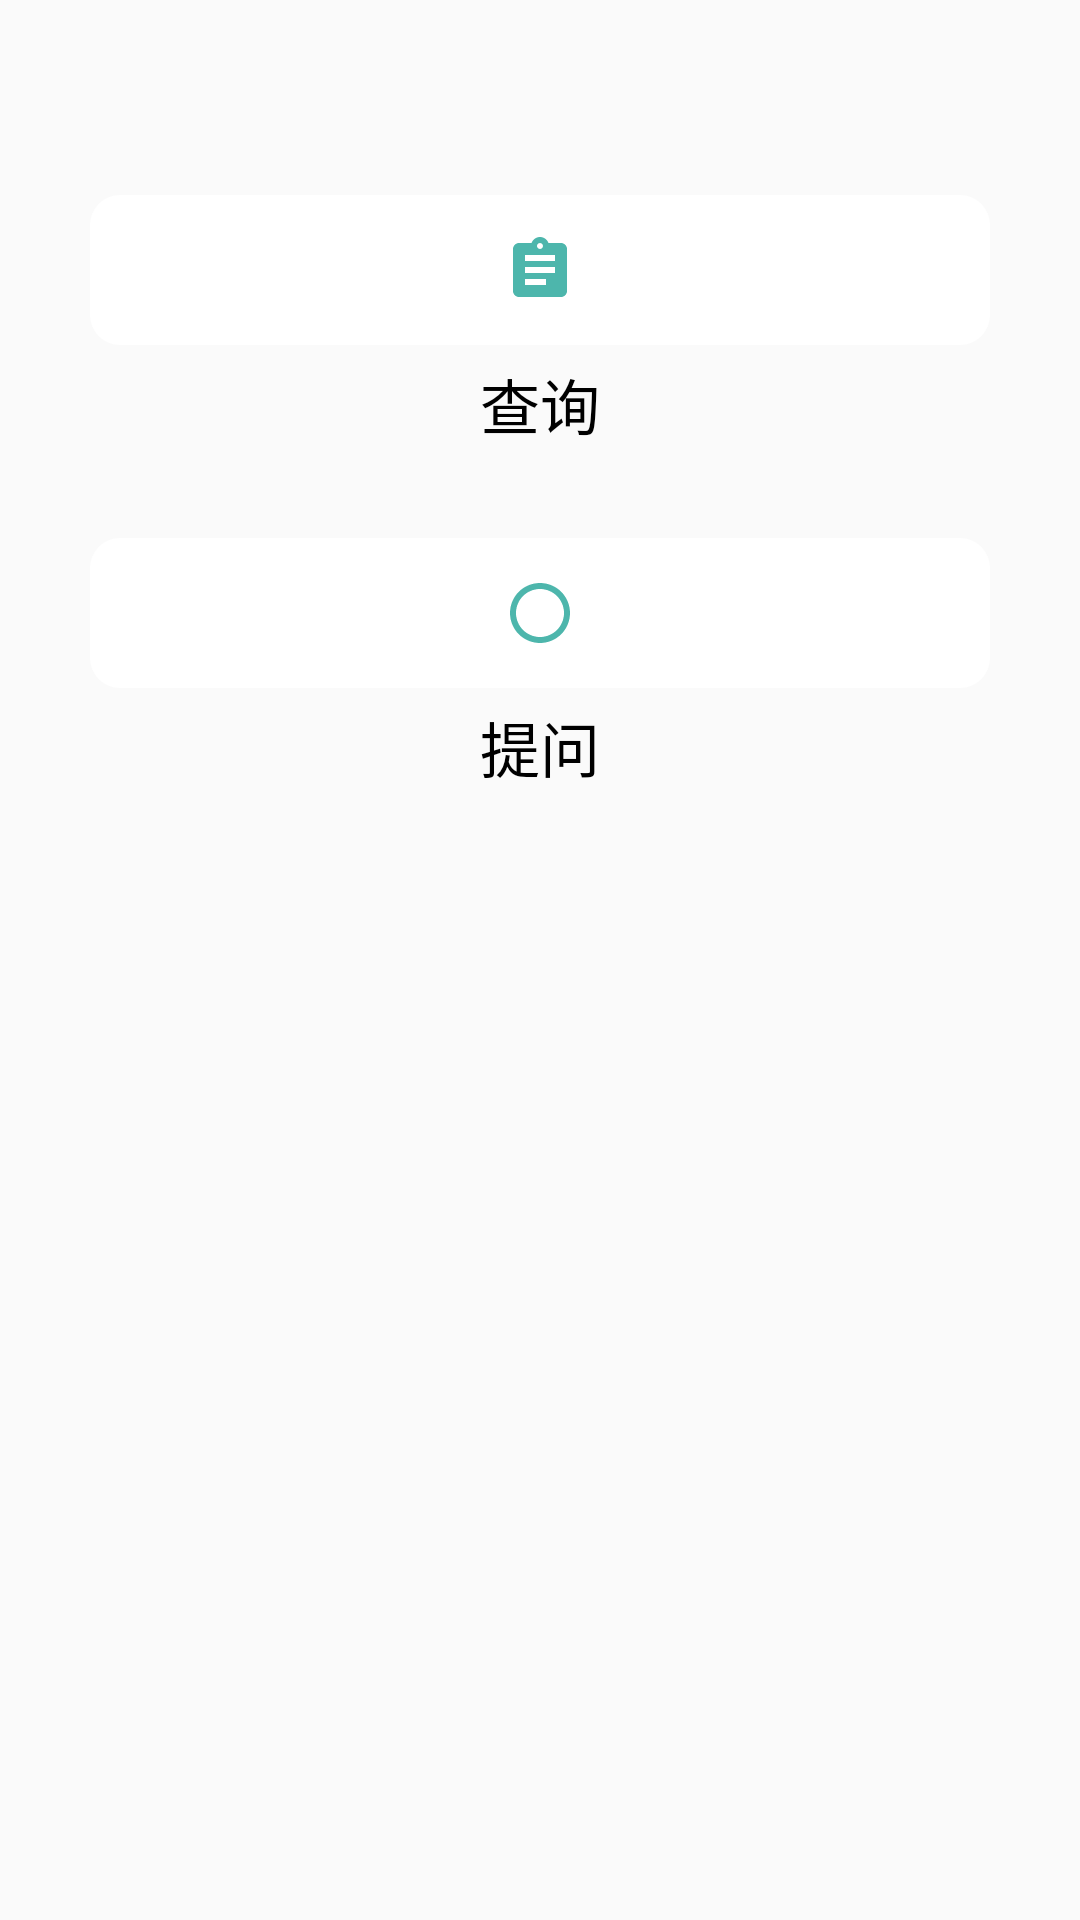

Screen size 1080×1920. Icon name, then its center in pixels as (x=x, y=y):
checking: (x=540, y=267)
